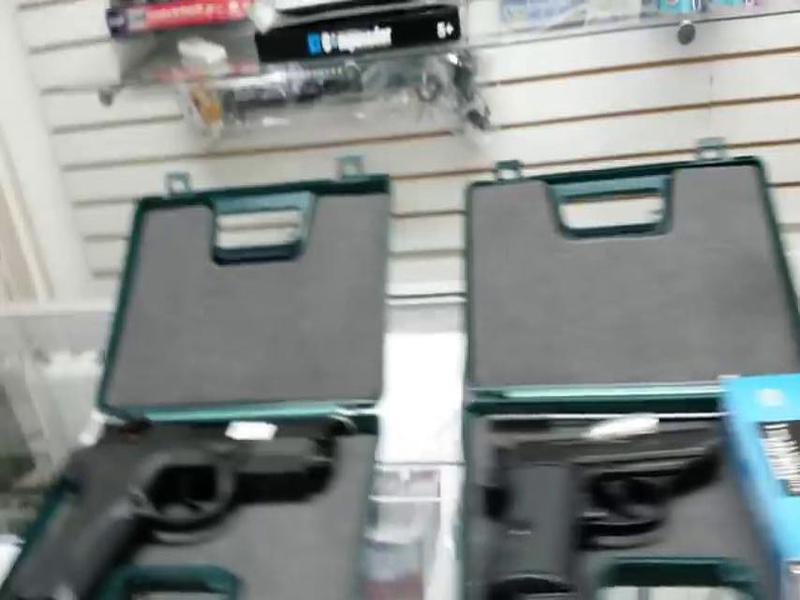Pistola: (477, 415, 713, 587)
